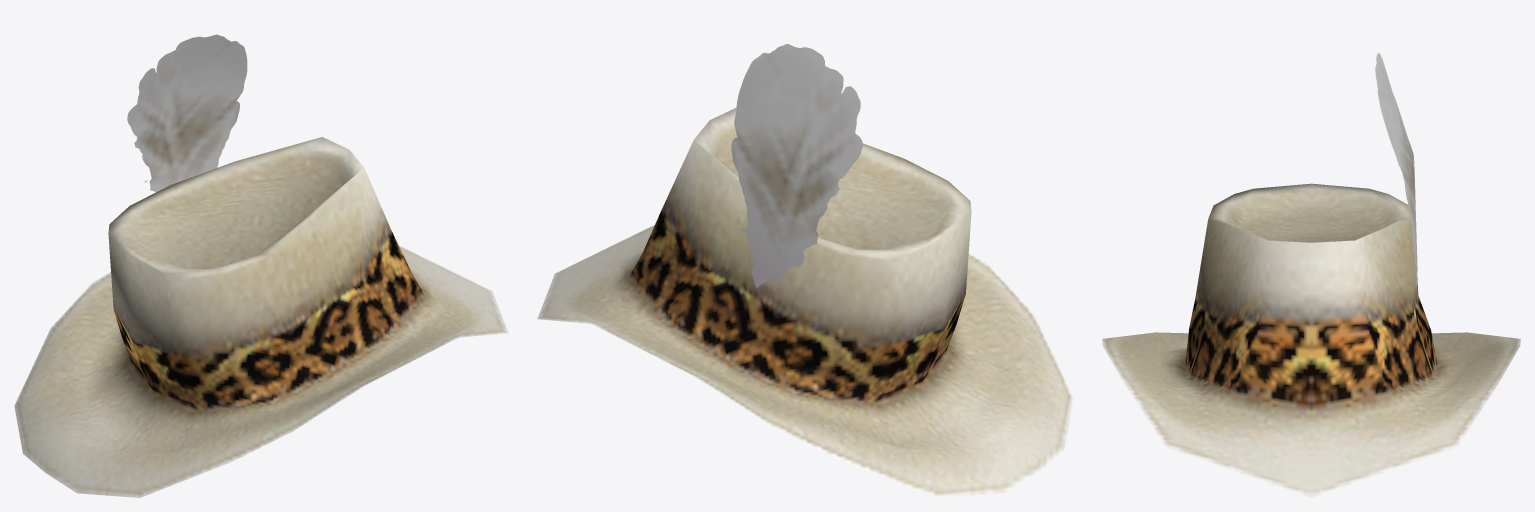
File: hat_0450011.FBX
3 renders of one model, left to right at view 1: azimuth 30°, elevation 25°; view 2: azimuth 150°, elevation 25°; view 3: azimuth 270°, elevation 25°, orthographic. The views are drawn at different scales.
Visible parts, largest first — view 1: hat_0450011; view 2: hat_0450011; view 3: hat_0450011.
Boxes of the visible parts, bbox=[...] form: hat_0450011: bbox=[14, 34, 508, 497]; hat_0450011: bbox=[537, 44, 1073, 497]; hat_0450011: bbox=[1102, 53, 1520, 497].
Size of the model in its own units: 45.83 by 37.44 by 35.81.
